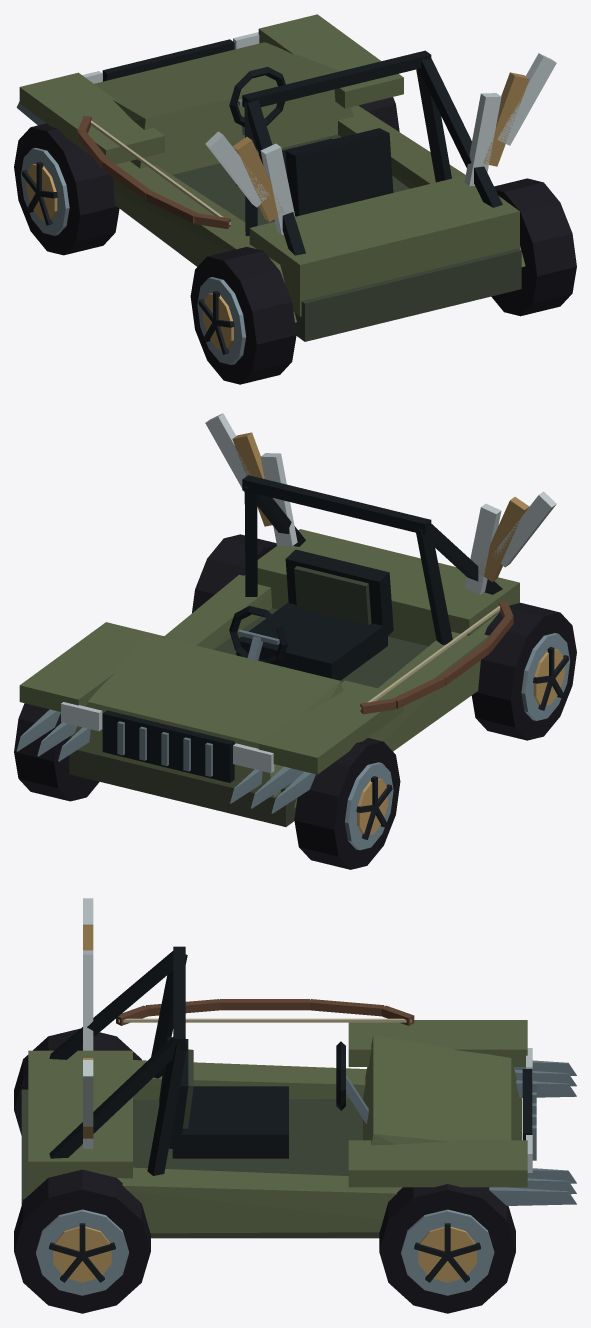
The model's file is kart.glb.
The picture shows the model from 3 angles, top to bottom: view 1: azimuth 30°, elevation 25°; view 2: azimuth 150°, elevation 25°; view 3: azimuth 270°, elevation 25°; orthographic projection. The views are drawn at different scales.
Parts seen in each view (by area): view 1: identity-jeep-jeep-offroad-frame, wheel-rear-left, wheel-front-left, identity-jeep-motif-feathers, identity-jeep-driver-cockpit, wheel-rear-right, identity-jeep-motif-bow, wheel-front-right; view 2: identity-jeep-jeep-offroad-frame, identity-jeep-driver-cockpit, wheel-rear-left, wheel-front-left, identity-jeep-motif-feathers, identity-jeep-motif-claws, wheel-front-right, identity-jeep-motif-bow, wheel-rear-right; view 3: identity-jeep-jeep-offroad-frame, wheel-rear-right, wheel-front-right, identity-jeep-driver-cockpit, identity-jeep-motif-bow, identity-jeep-motif-claws, identity-jeep-motif-feathers, wheel-rear-left.
Boxes of the visible parts, x1=… form: identity-jeep-jeep-offroad-frame: x1=19, y1=14, x2=525, y2=341; wheel-rear-left: x1=190, y1=247, x2=296, y2=384; wheel-front-left: x1=14, y1=123, x2=119, y2=255; identity-jeep-motif-feathers: x1=205, y1=53, x2=556, y2=234; identity-jeep-driver-cockpit: x1=229, y1=66, x2=393, y2=216; wheel-rear-right: x1=491, y1=178, x2=576, y2=316; identity-jeep-motif-bow: x1=77, y1=116, x2=230, y2=228; wheel-front-right: x1=358, y1=97, x2=399, y2=131; identity-jeep-jeep-offroad-frame: x1=19, y1=475, x2=519, y2=826; identity-jeep-driver-cockpit: x1=229, y1=549, x2=393, y2=680; wheel-rear-left: x1=471, y1=602, x2=576, y2=740; wheel-front-left: x1=294, y1=738, x2=400, y2=869; identity-jeep-motif-feathers: x1=205, y1=413, x2=556, y2=594; identity-jeep-motif-claws: x1=16, y1=709, x2=315, y2=813; wheel-front-right: x1=14, y1=703, x2=99, y2=801; identity-jeep-motif-bow: x1=360, y1=601, x2=513, y2=714; wheel-rear-right: x1=192, y1=534, x2=276, y2=612; identity-jeep-jeep-offroad-frame: x1=21, y1=946, x2=536, y2=1238; wheel-rear-right: x1=14, y1=1169, x2=150, y2=1313; wheel-front-right: x1=379, y1=1184, x2=515, y2=1313; identity-jeep-driver-cockpit: x1=159, y1=1037, x2=368, y2=1158; identity-jeep-motif-bow: x1=116, y1=999, x2=414, y2=1025; identity-jeep-motif-claws: x1=489, y1=1060, x2=576, y2=1205; identity-jeep-motif-feathers: x1=83, y1=898, x2=93, y2=1148; wheel-rear-left: x1=14, y1=1028, x2=141, y2=1135.
Bounding box in the file's own units: 2.18 × 1.47 × 2.96.
